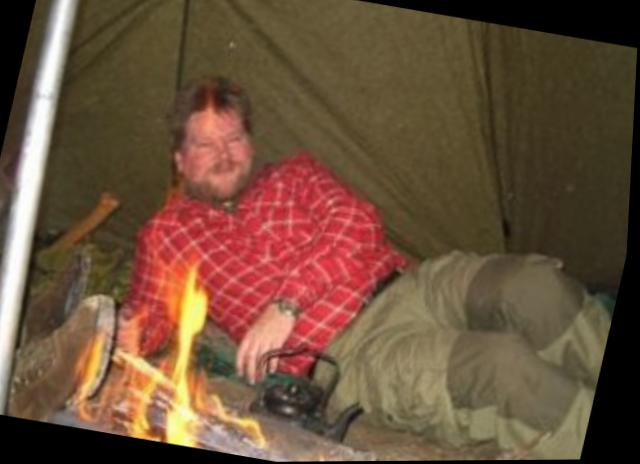fire: (59, 248, 302, 455)
